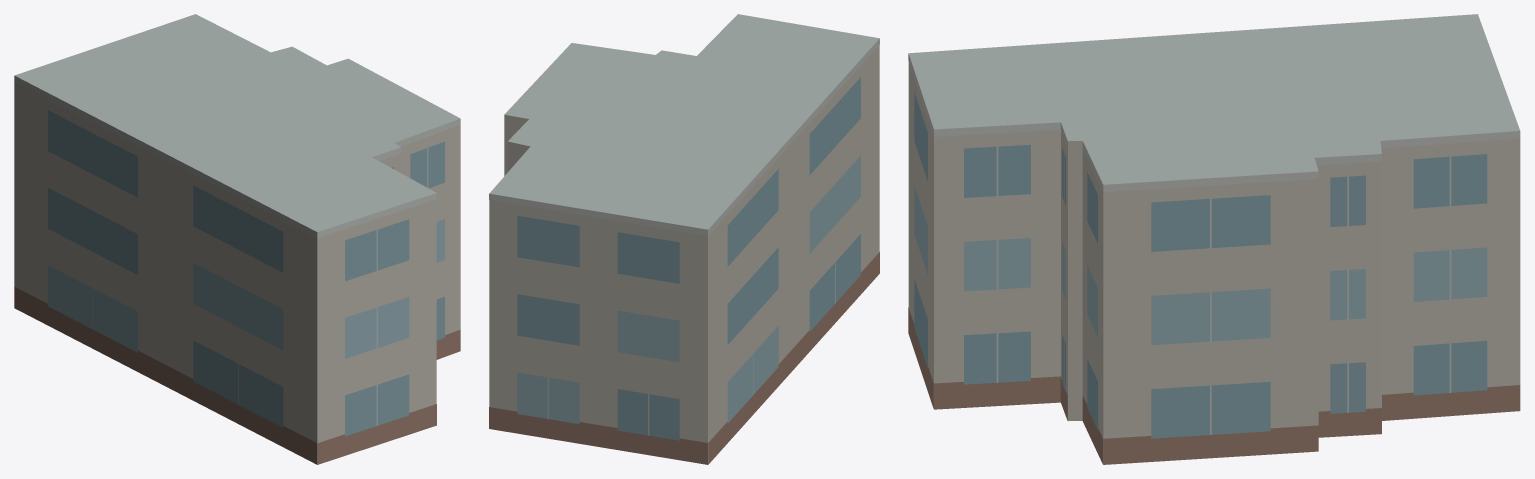
File: survey-upis-32751523.glb
3 renders of one model, left to right at view 1: azimuth 30°, elevation 25°; view 2: azimuth 150°, elevation 25°; view 3: azimuth 270°, elevation 25°, orthographic. The views are drawn at different scales.
Visible parts, largest first — view 1: survey-upis-32751523.tmp; view 2: survey-upis-32751523.tmp; view 3: survey-upis-32751523.tmp.
Boxes of the visible parts, x1=… form: survey-upis-32751523.tmp: x1=14, y1=14, x2=460, y2=464; survey-upis-32751523.tmp: x1=489, y1=14, x2=879, y2=464; survey-upis-32751523.tmp: x1=908, y1=14, x2=1520, y2=464.
Size of the model in its own units: 11.98 by 9.15 by 18.12.
